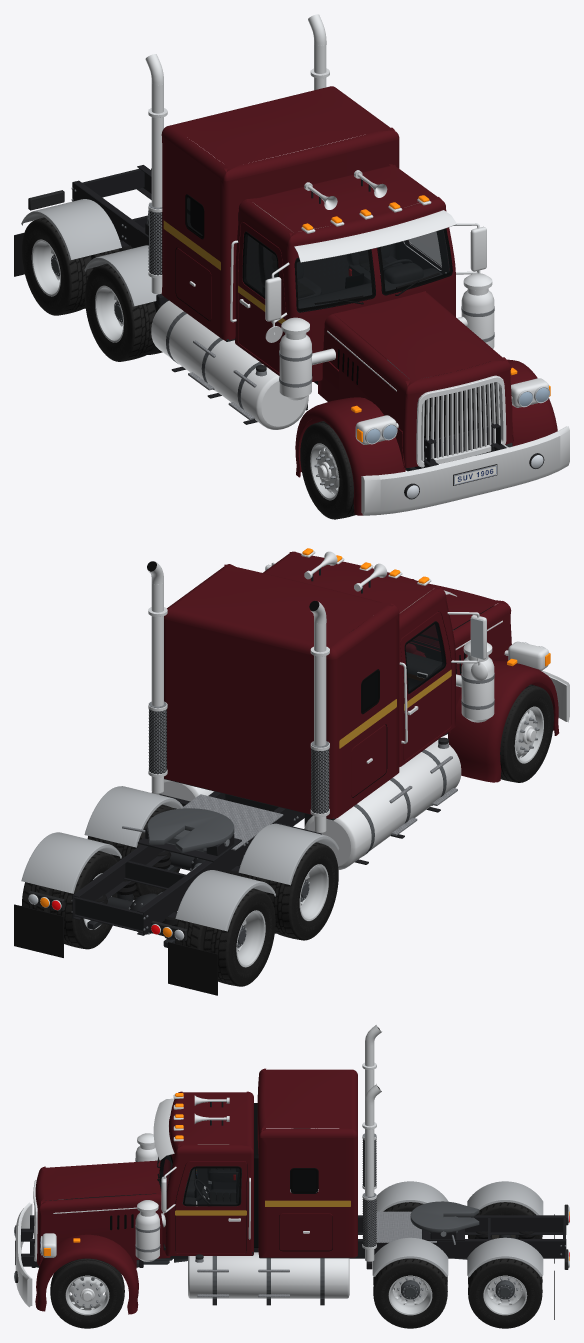
The model's file is long-nose-truck.glb.
3 views of the same model, one above another, from view 1: azimuth 30°, elevation 25°; view 2: azimuth 150°, elevation 25°; view 3: azimuth 270°, elevation 25° (orthographic). The views are drawn at different scales.
Visible parts, largest first — view 1: Body, Wheel_2_Right, Wheel_3_Right, Wheel_1_Right; view 2: Body, Wheel_3_Right, Wheel_2_Right, Wheel_1_Right, Wheel_3_Left, Wheel_2_Left; view 3: Body, Wheel_2_Left, Wheel_3_Left, Wheel_1_Left, Wheel_3_Right.
Part boxes in pixels (bbox=[...]): Body: bbox=[14, 14, 569, 515]; Wheel_2_Right: bbox=[85, 263, 162, 361]; Wheel_3_Right: bbox=[21, 217, 119, 315]; Wheel_1_Right: bbox=[300, 421, 355, 519]; Body: bbox=[14, 548, 569, 995]; Wheel_3_Right: bbox=[175, 888, 275, 986]; Wheel_2_Right: bbox=[241, 842, 338, 940]; Wheel_1_Right: bbox=[500, 684, 553, 782]; Wheel_3_Left: bbox=[22, 851, 117, 949]; Wheel_2_Left: bbox=[87, 804, 180, 899]; Body: bbox=[14, 1025, 569, 1319]; Wheel_2_Left: bbox=[373, 1258, 447, 1328]; Wheel_3_Left: bbox=[468, 1258, 542, 1328]; Wheel_1_Left: bbox=[50, 1258, 124, 1328]; Wheel_3_Right: bbox=[468, 1202, 542, 1238].
Bounding box in the file's own units: 2.68 × 3.65 × 7.75.
53 materials, 15 textured.
